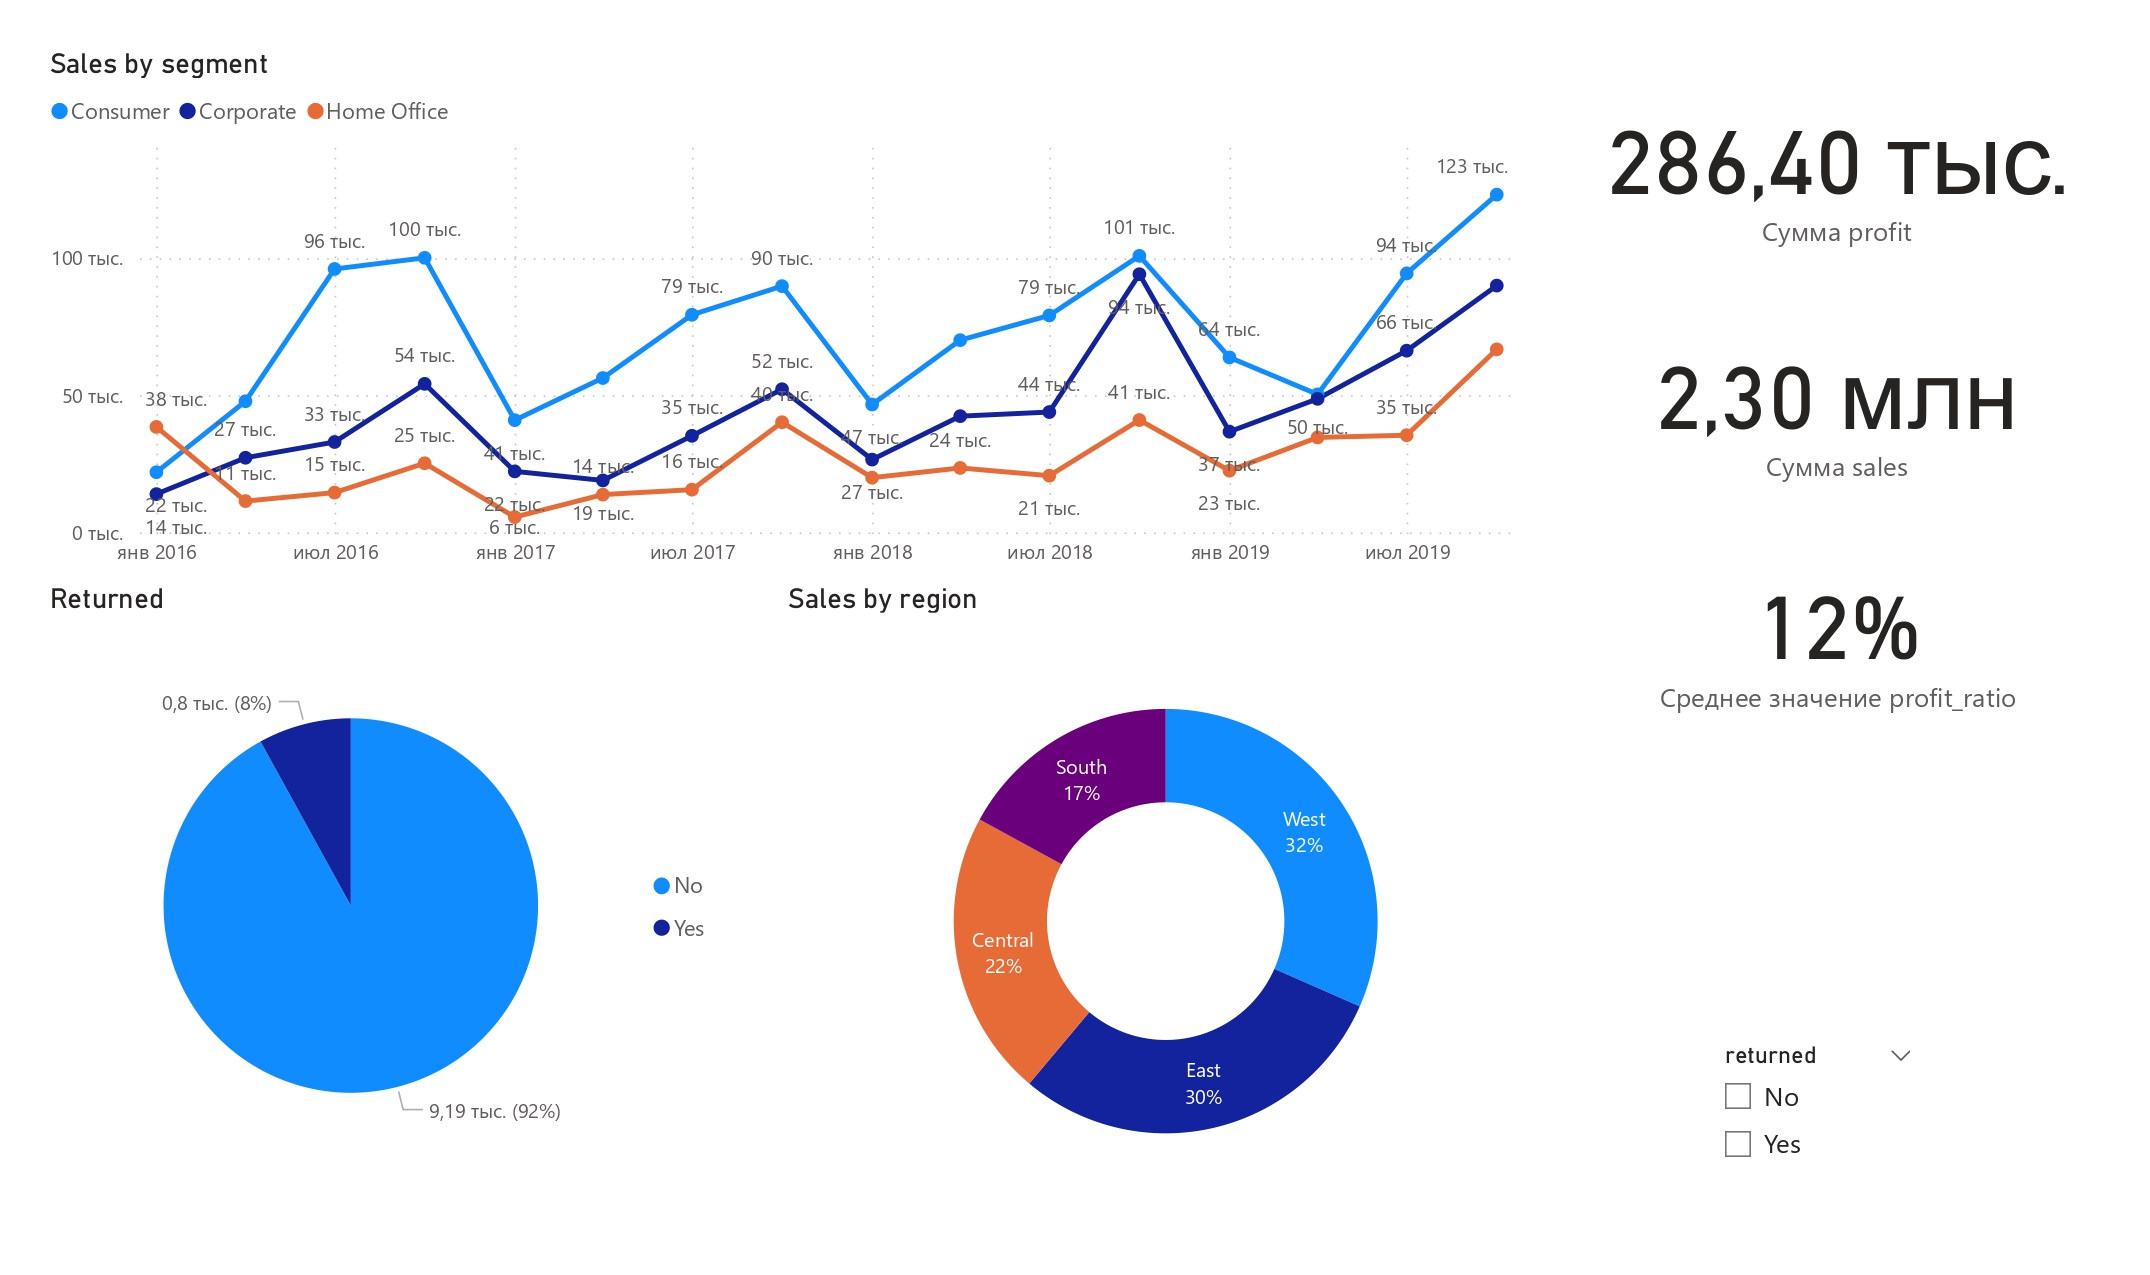

What the dashboard file says about the page in this screenshot:
{"tool":"powerbi","page":{"name":"Part 2","canvas":[1280,720],"ordinal":1},"visuals":[{"type":"donutChart","title":"Sales by region","fields":{"Category":["datw person_datw.region"],"Y":["Sum(datw sales_fact_datw.sales)"]},"box":[460.3,325.9,470.3,394.8],"z":0},{"type":"pieChart","title":"Returned","fields":{"Category":["datw sales_fact_datw.returned"],"Y":["CountNonNull(datw sales_fact_datw.returned)"]},"box":[10.1,325.9,418.3,376.3],"z":1000},{"type":"lineChart","title":"Sales by segment","fields":{"Category":["datw sales_fact_datw.order_date.Изменение.Иерархия дат.Год","datw sales_fact_datw.order_date.Изменение.Иерархия дат.Квартал","datw sales_fact_datw.order_date.Изменение.Иерархия дат.Месяц","datw sales_fact_datw.order_date.Изменение.Иерархия дат.День"],"Y":["Sum(datw sales_fact_datw.sales)"],"Series":["datw customer_datw.segment"]},"box":[10.1,0,918.8,325.9],"z":2000},{"type":"card","fields":{"Values":["Sum(datw sales_fact_datw.profit)"]},"box":[928.9,0,351.1,147.8],"z":3000},{"type":"card","fields":{"Values":["Sum(datw sales_fact_datw.sales)"]},"box":[928.9,147.8,351.1,139.4],"z":4000},{"type":"slicer","fields":{"Values":["datw sales_fact_datw.returned"]},"box":[1023,601.4,139.4,119.3],"z":5000},{"type":"card","fields":{"Values":["Avg(datw sales_fact_datw.profit_ratio)"]},"box":[930.6,287.2,349.4,141.1],"z":7000}]}

Visuals, with their boxes on the page's 1280x720 design canvas (x1, y1, x2, y2). These are canvas units, not pixel positions in the 2150x1275 screenshot, which may show the page scaled, cropped or inside an application window:
"Sales by region" donutChart: 460,326,931,721
"Returned" pieChart: 10,326,428,702
"Sales by segment" lineChart: 10,0,929,326
card - Sum(datw sales_fact_datw.profit): 929,0,1280,148
card - Sum(datw sales_fact_datw.sales): 929,148,1280,287
slicer - datw sales_fact_datw.returned: 1023,601,1162,721
card - Avg(datw sales_fact_datw.profit_ratio): 931,287,1280,428
